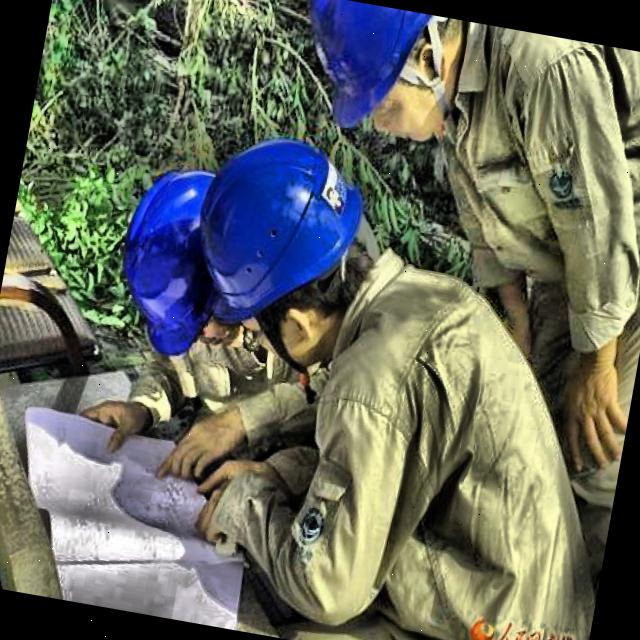helmet: (174, 119, 384, 376), (102, 158, 274, 374), (289, 0, 476, 151)
